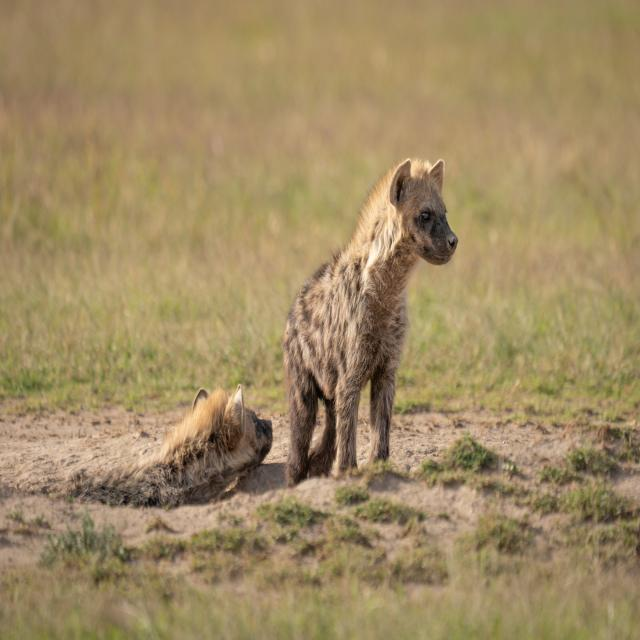Hyena: (282, 146, 463, 488), (63, 378, 273, 518)
